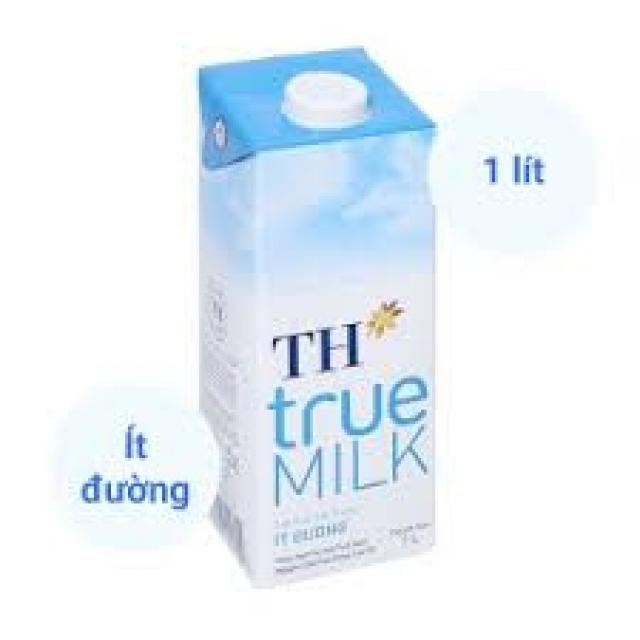non_white_jug: (182, 22, 432, 572)
